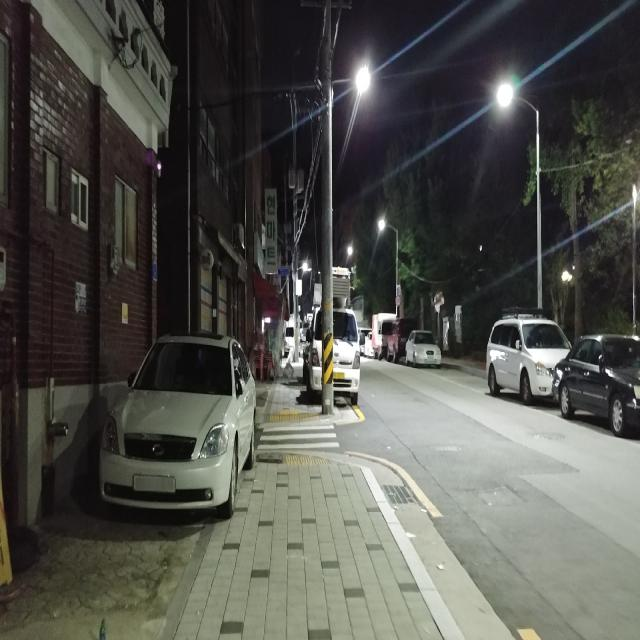횡단보도: (256, 424, 340, 450)
